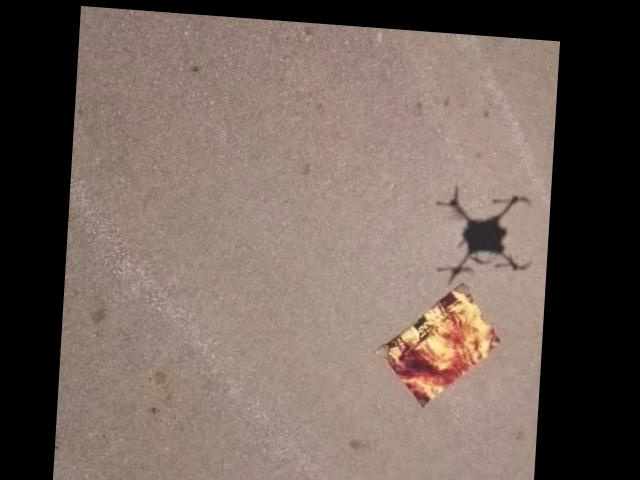fire-poster: (376, 270, 508, 406)
